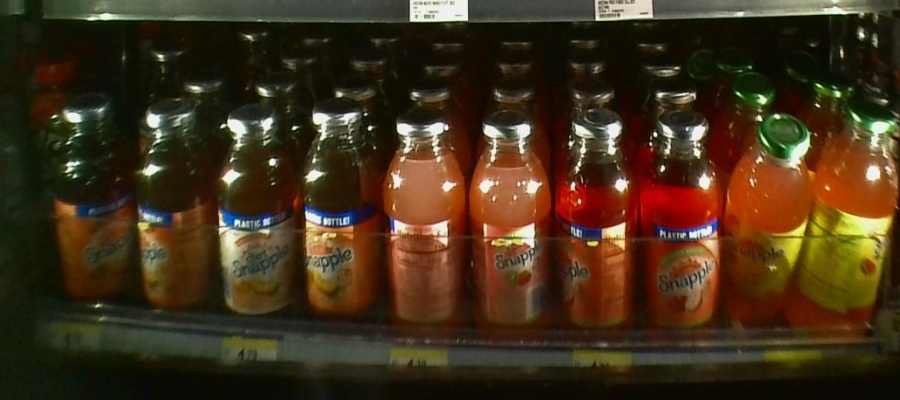bottle: (815, 97, 899, 353), (382, 106, 467, 341), (642, 105, 725, 345), (554, 107, 639, 337), (729, 114, 812, 348), (468, 106, 548, 341), (296, 100, 379, 326), (49, 92, 133, 313), (214, 99, 294, 323), (134, 94, 211, 319)
